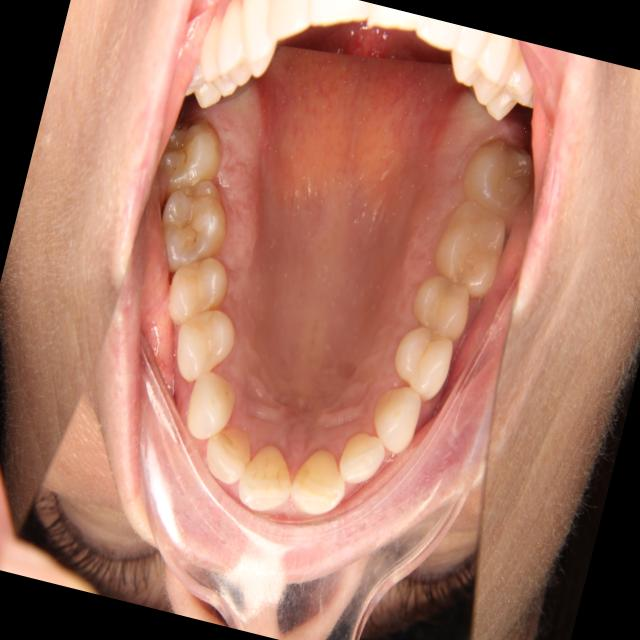tooth: (140, 158, 253, 287), (418, 186, 520, 311), (442, 115, 544, 235), (395, 249, 490, 358), (158, 291, 251, 402), (352, 370, 442, 475), (152, 237, 239, 345), (149, 107, 235, 215), (226, 429, 315, 530), (380, 311, 469, 411), (276, 435, 361, 528), (172, 355, 251, 453), (195, 404, 265, 493), (326, 424, 397, 503)
